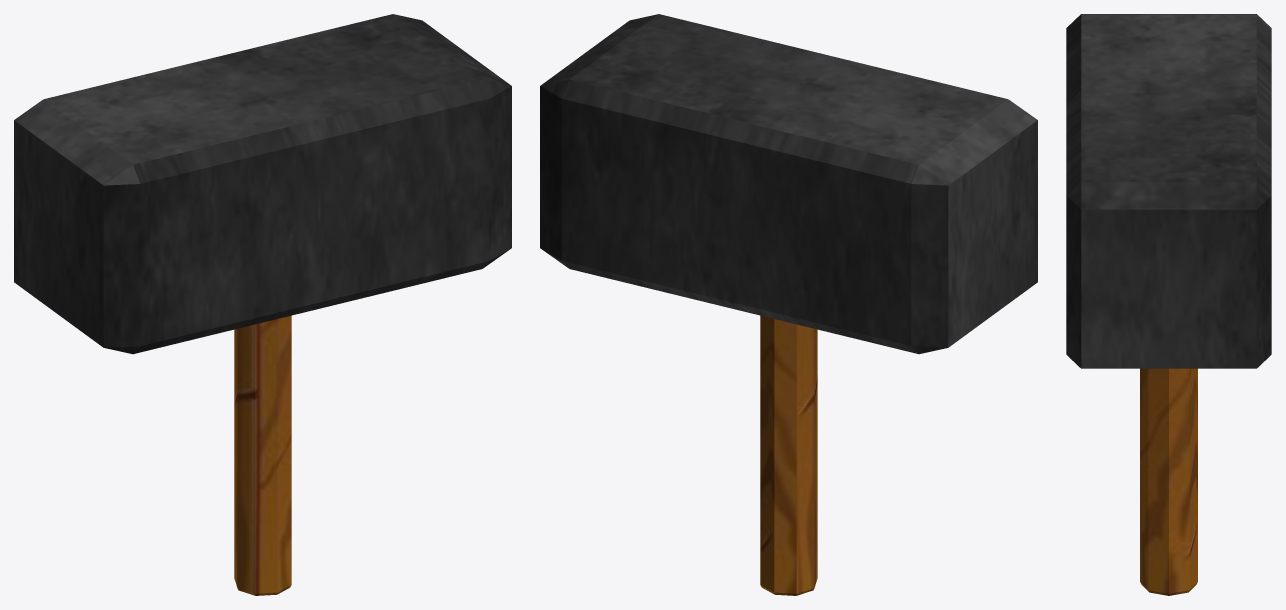
Rendered from Mine_Hammer.fbx.
The picture shows the model from 3 angles, left to right: view 1: azimuth 30°, elevation 25°; view 2: azimuth 150°, elevation 25°; view 3: azimuth 270°, elevation 25°; orthographic projection.
Parts seen in each view (by area): view 1: Hammer; view 2: Hammer; view 3: Hammer.
Boxes of the visible parts, x1=… form: Hammer: x1=14, y1=14, x2=511, y2=595; Hammer: x1=540, y1=14, x2=1037, y2=595; Hammer: x1=1066, y1=14, x2=1271, y2=595.
Bounding box in the file's own units: 102 × 118 × 45.2.
